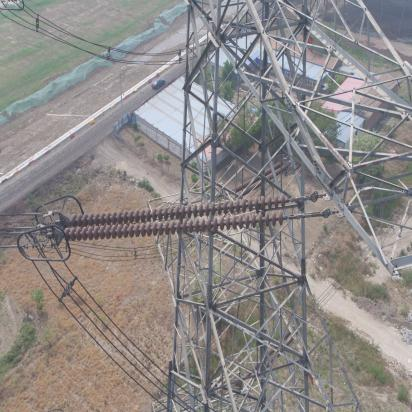insulator: (60, 193, 305, 243)
